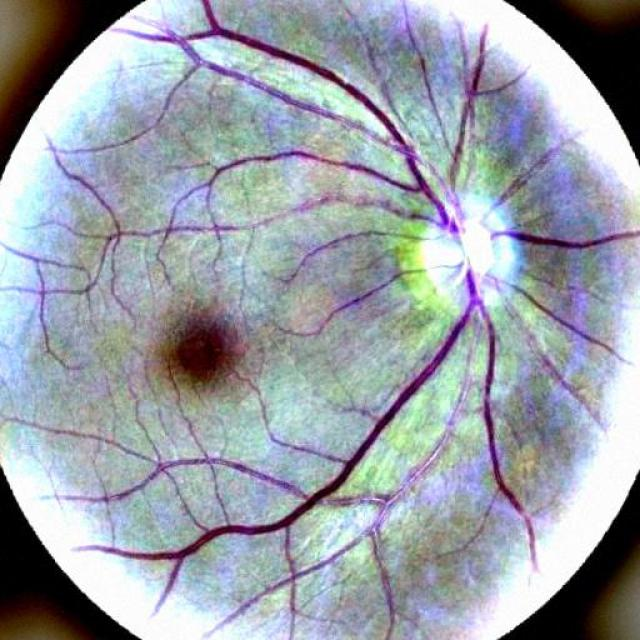Macula: (153, 303, 269, 411)
Nerves: (133, 21, 635, 566)
Optic Disk: (387, 168, 552, 330)
